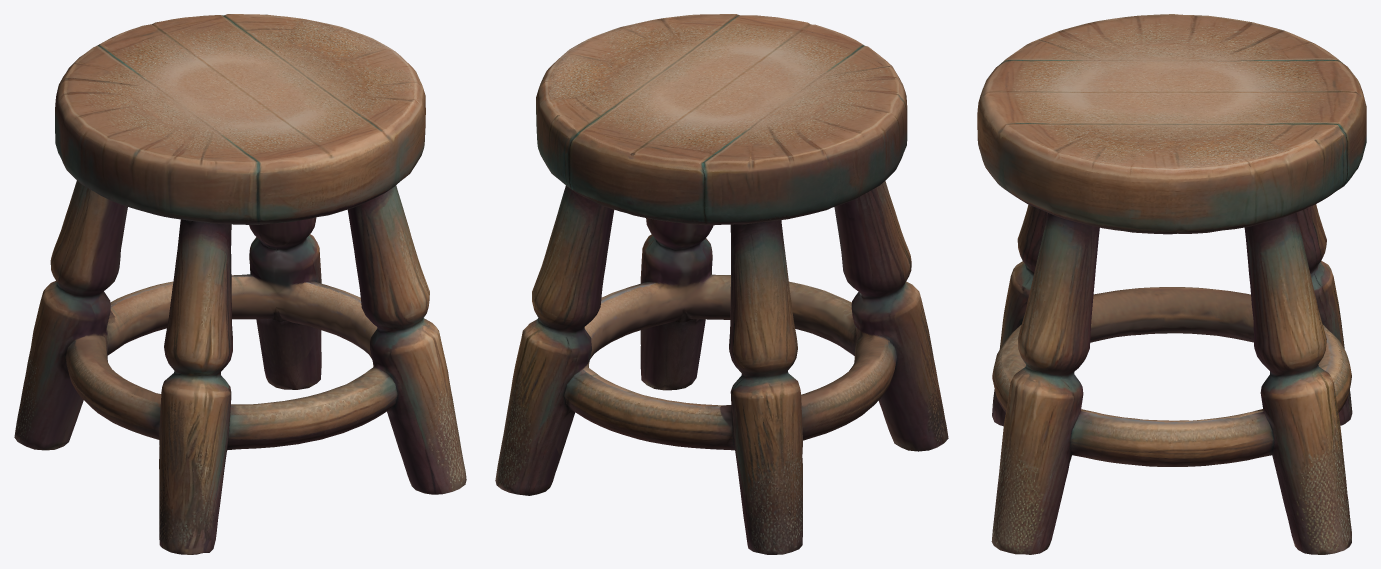
File: Furn_Stool.fbx
The picture shows the model from 3 angles, left to right: view 1: azimuth 30°, elevation 25°; view 2: azimuth 150°, elevation 25°; view 3: azimuth 270°, elevation 25°; orthographic projection. The views are drawn at different scales.
Parts seen in each view (by area): view 1: texture_mapping; view 2: texture_mapping; view 3: texture_mapping.
Part boxes in pixels (left/top/right/bottom): texture_mapping: left=14, top=14, right=466, bottom=554; texture_mapping: left=495, top=14, right=948, bottom=554; texture_mapping: left=977, top=14, right=1366, bottom=554.
Bounding box in the file's own units: 0.9046 × 0.9045 × 1.
Materials: 1 (1 with a texture image).
